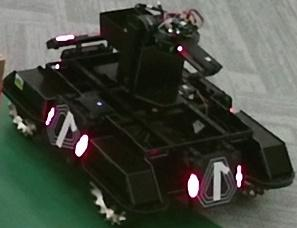armor_1: (45, 107, 89, 157), (188, 165, 243, 199)
